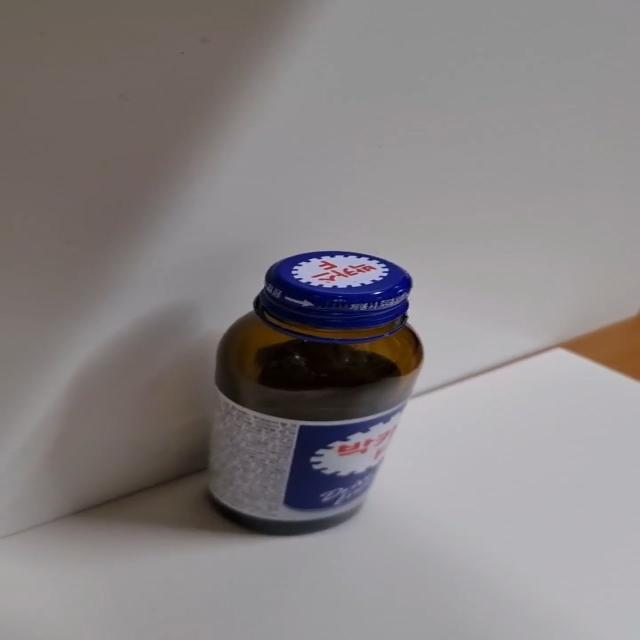Glass: (206, 250, 426, 538)
